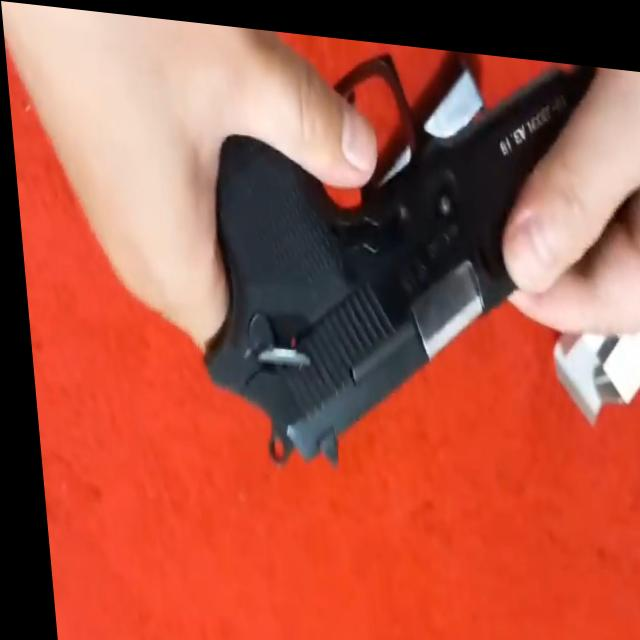handgun: (172, 39, 606, 502)
